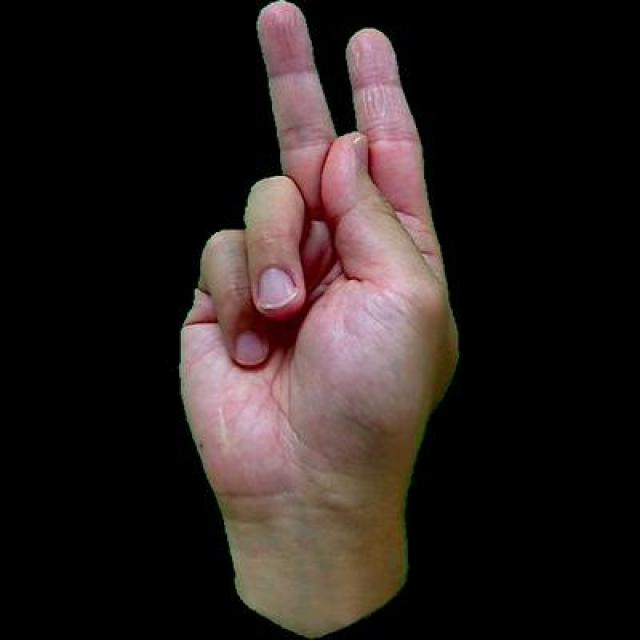k: (165, 0, 470, 637)
